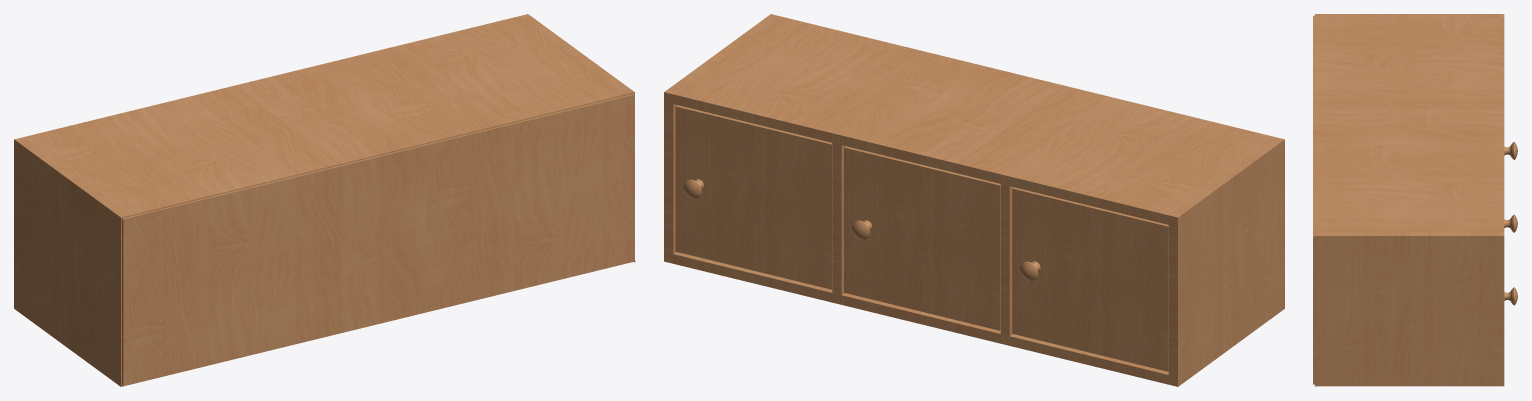
Rendered from antresol_k_shkafu_3_sektsionnaja.glb.
3 views of the same model, side by side, from view 1: azimuth 30°, elevation 25°; view 2: azimuth 150°, elevation 25°; view 3: azimuth 270°, elevation 25° (orthographic). The views are drawn at different scales.
Visible parts, largest first — view 1: Shape_IndexedFaceSet.012_NON, Shape_IndexedFaceSet.009, Shape_IndexedFaceSet.007, Shape_IndexedFaceSet.006; view 2: Shape_IndexedFaceSet.009, Shape_IndexedFaceSet.004, Shape_IndexedFaceSet, Shape_IndexedFaceSet.002, Shape_IndexedFaceSet.007, Shape_IndexedFaceSet.008, Shape_IndexedFaceSet.006, Shape_IndexedFaceSet.011, Shape_IndexedFaceSet.010; view 3: Shape_IndexedFaceSet.009, Shape_IndexedFaceSet.006, Shape_IndexedFaceSet.007, Shape_IndexedFaceSet.012_NON.
Boxes of the visible parts, <box> form: Shape_IndexedFaceSet.012_NON: <box>122,93,634,386</box>; Shape_IndexedFaceSet.009: <box>23,16,625,216</box>; Shape_IndexedFaceSet.007: <box>14,137,130,386</box>; Shape_IndexedFaceSet.006: <box>519,14,634,95</box>; Shape_IndexedFaceSet.009: <box>673,16,1275,224</box>; Shape_IndexedFaceSet.004: <box>675,105,832,289</box>; Shape_IndexedFaceSet: <box>1012,187,1168,371</box>; Shape_IndexedFaceSet.002: <box>844,146,1000,330</box>; Shape_IndexedFaceSet.007: <box>1168,137,1284,386</box>; Shape_IndexedFaceSet.008: <box>673,252,1168,384</box>; Shape_IndexedFaceSet.006: <box>664,14,779,263</box>; Shape_IndexedFaceSet.011: <box>1000,184,1013,336</box>; Shape_IndexedFaceSet.010: <box>832,143,845,294</box>; Shape_IndexedFaceSet.009: <box>1315,18,1504,231</box>; Shape_IndexedFaceSet.006: <box>1315,232,1504,386</box>; Shape_IndexedFaceSet.007: <box>1315,14,1504,17</box>; Shape_IndexedFaceSet.012_NON: <box>1313,15,1314,384</box>.
Size of the model in its own units: 890 by 281 by 347.
Materials: 14 (13 with a texture image).
